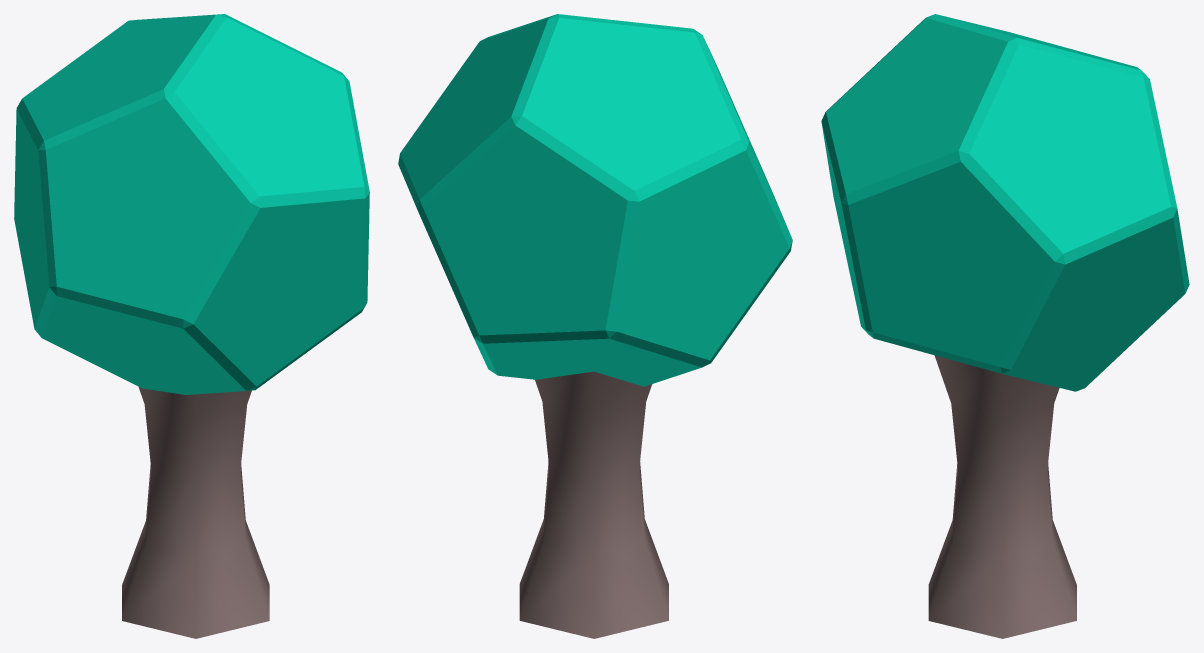
Rendered from tree_cute1.fbx.
The picture shows the model from 3 angles, left to right: view 1: azimuth 30°, elevation 25°; view 2: azimuth 150°, elevation 25°; view 3: azimuth 270°, elevation 25°; orthographic projection.
Parts seen in each view (by area): view 1: tree_cute1, trunk; view 2: tree_cute1, trunk; view 3: tree_cute1, trunk.
Boxes of the visible parts, <box> form: tree_cute1: <box>14,14,369,394</box>; trunk: <box>122,387,269,638</box>; tree_cute1: <box>398,14,792,386</box>; trunk: <box>519,371,668,638</box>; tree_cute1: <box>821,14,1189,391</box>; trunk: <box>928,355,1076,638</box>.
Size of the model in its own units: 2.84 by 4.68 by 2.7.
